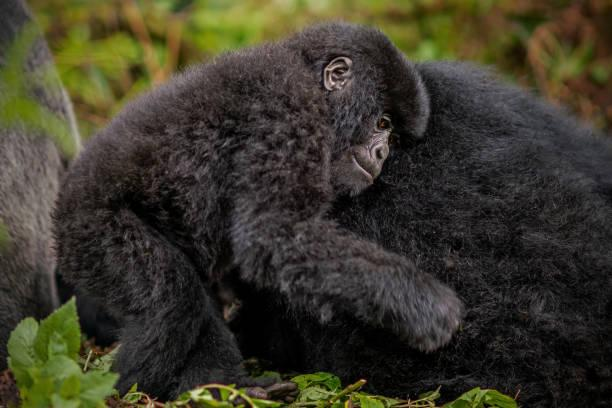goriile_montagne: (64, 0, 472, 395)
